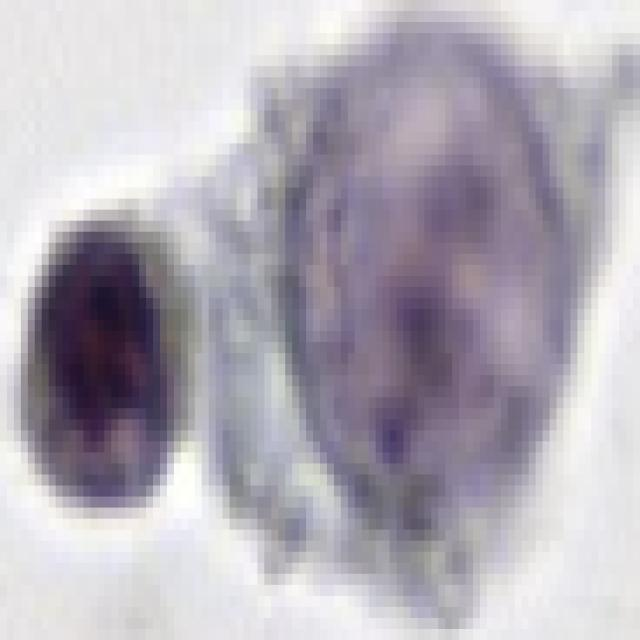nucleus: (291, 22, 591, 534)
